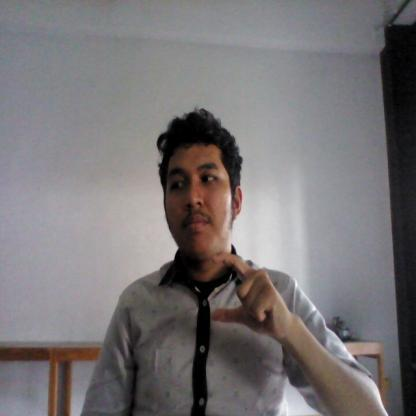C: (207, 249, 294, 346)
